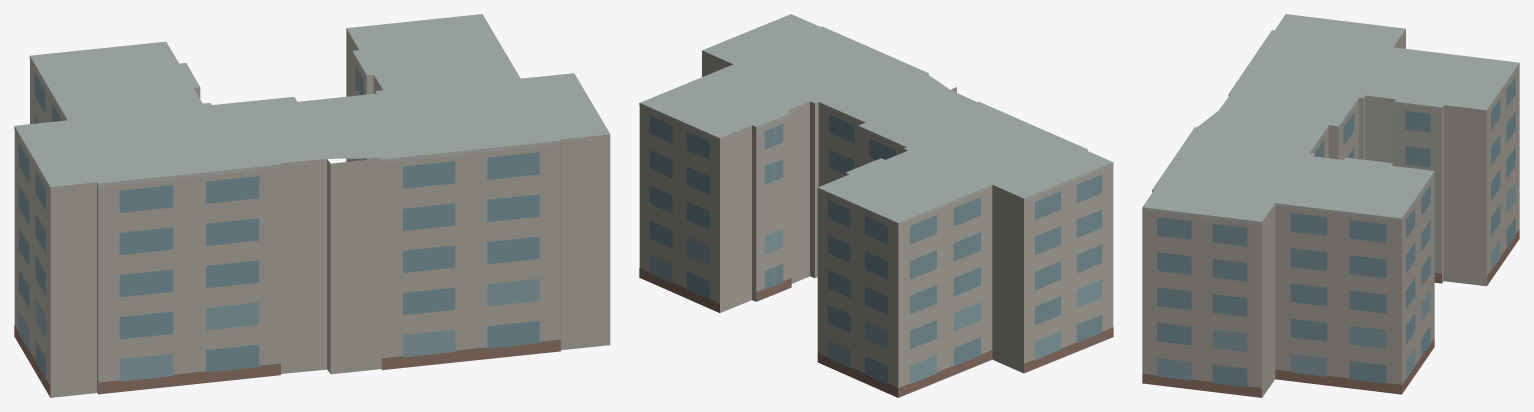
Rendered from survey-upis-32626046.glb.
3 renders of one model, left to right at view 1: azimuth 30°, elevation 25°; view 2: azimuth 150°, elevation 25°; view 3: azimuth 270°, elevation 25°, orthographic. The views are drawn at different scales.
Visible parts, largest first — view 1: survey-upis-32626046.tmp; view 2: survey-upis-32626046.tmp; view 3: survey-upis-32626046.tmp.
Part boxes in pixels (<box>): survey-upis-32626046.tmp: <box>14,14,610,397</box>; survey-upis-32626046.tmp: <box>639,14,1113,397</box>; survey-upis-32626046.tmp: <box>1142,14,1519,397</box>.
Bounding box in the file's own units: 38.62 × 15.25 × 29.63.
